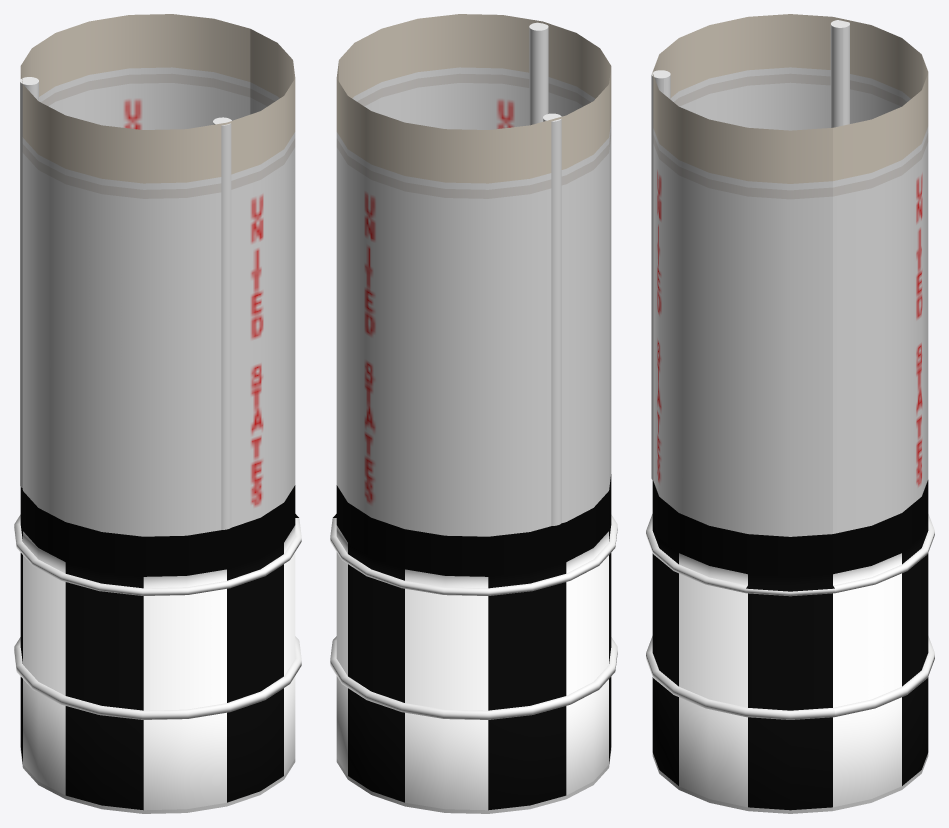
Rendered from etapa2.obj.
The picture shows the model from 3 angles, left to right: view 1: azimuth 30°, elevation 25°; view 2: azimuth 150°, elevation 25°; view 3: azimuth 270°, elevation 25°; orthographic projection.
Bounding box in the file's own units: 1.2 × 3.13 × 1.2.
